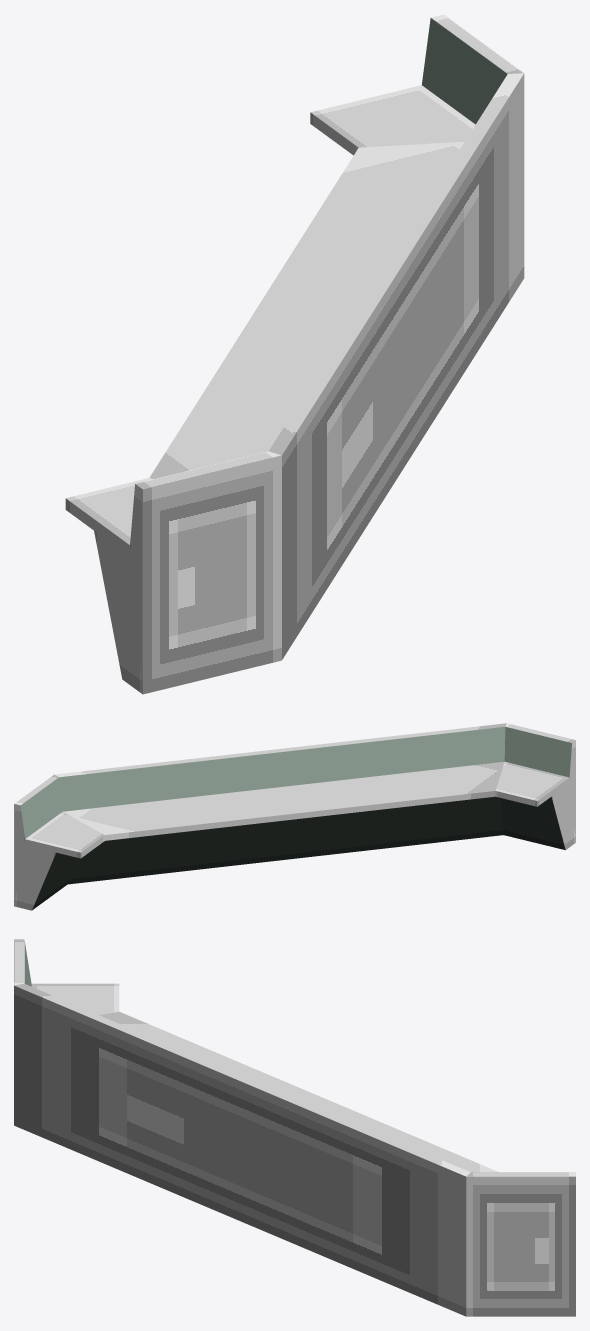
The model's file is desk_corner_inside_3_item.obj.
The picture shows the model from 3 angles, top to bottom: view 1: azimuth 30°, elevation 25°; view 2: azimuth 150°, elevation 25°; view 3: azimuth 270°, elevation 25°; orthographic projection. The views are drawn at different scales.
Size of the model in its own units: 4 by 1.1 by 4.
